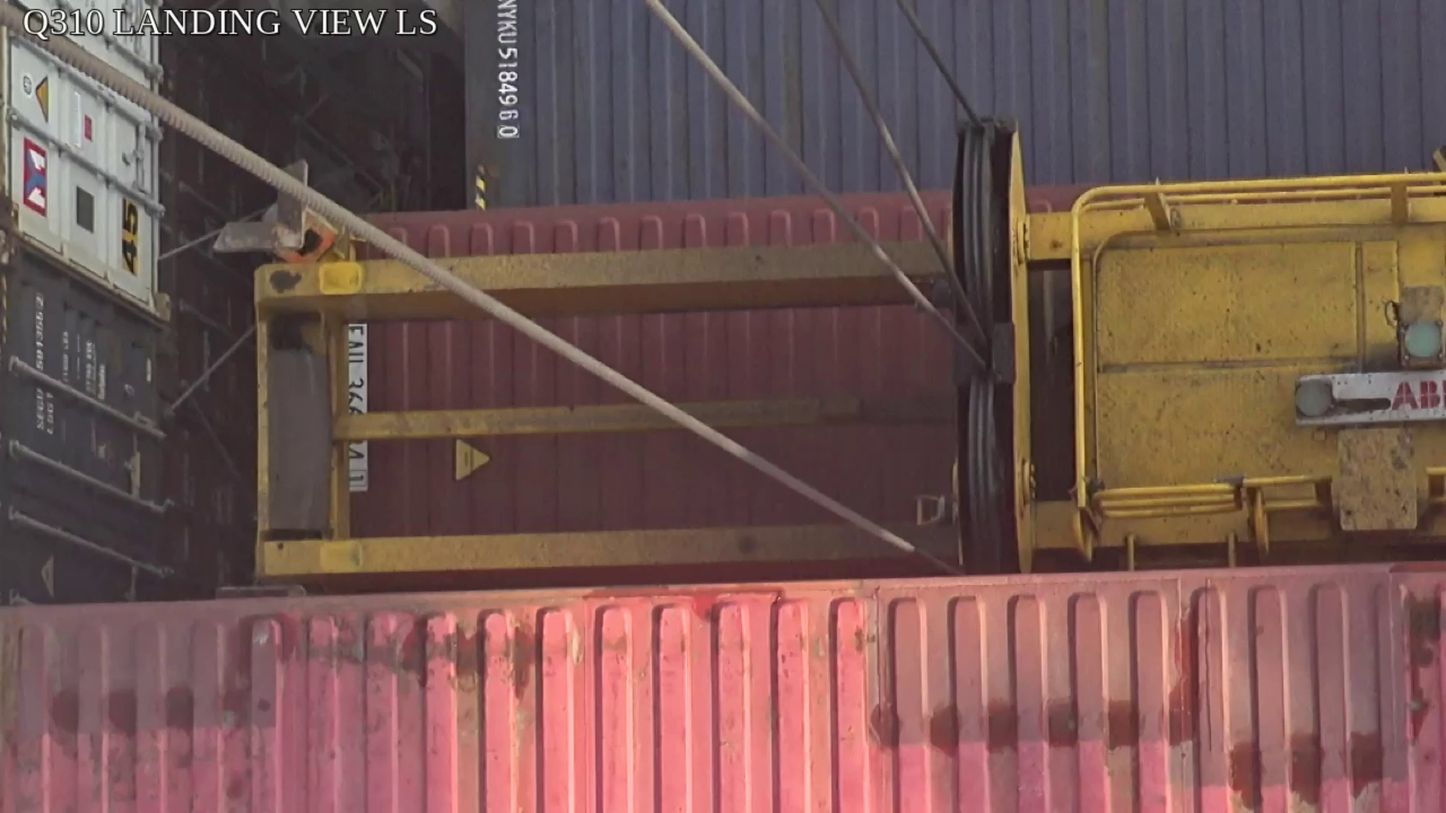aa: (952, 120, 1035, 573)
